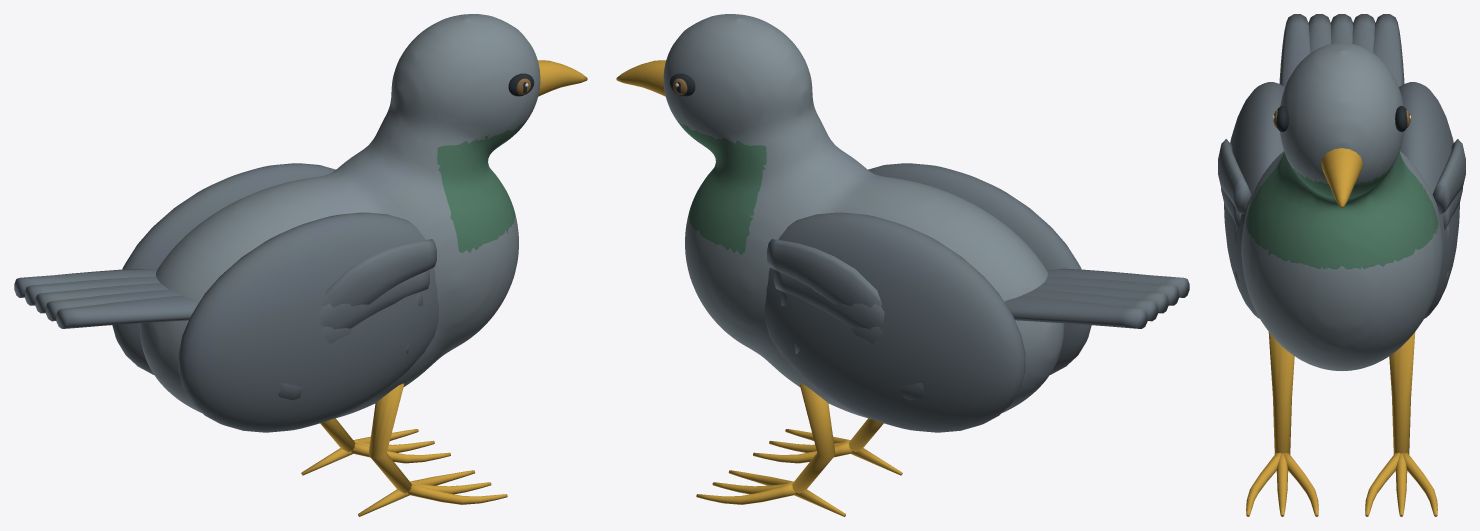
File: nature-pigeon.glb
The picture shows the model from 3 angles, left to right: view 1: azimuth 30°, elevation 25°; view 2: azimuth 150°, elevation 25°; view 3: azimuth 270°, elevation 25°; orthographic projection. The views are drawn at different scales.
Visible parts, largest first — view 1: Continuous anatomical skin, Convex folded wing wrapping flank, Convex folded wing wrapping flank.001, Curved overlapping primary feather, Rounded overlapping solid tail feather, Articulated bird leg, Curved overlapping primary feather.001, Rounded overlapping solid tail feather.004, Rounded overlapping solid tail feather.003, Rounded overlapping solid tail feather.001, Rounded overlapping solid tail feather.002, Tapered solid bird bill (+2 smaller); view 2: Continuous anatomical skin, Convex folded wing wrapping flank.001, Convex folded wing wrapping flank, Curved overlapping primary feather.005, Rounded overlapping solid tail feather.004, Articulated bird leg.001, Curved overlapping primary feather.006, Rounded overlapping solid tail feather, Rounded overlapping solid tail feather.003, Rounded overlapping solid tail feather.001, Rounded overlapping solid tail feather.002, Tapered solid bird bill (+2 smaller); view 3: Continuous anatomical skin, Convex folded wing wrapping flank, Convex folded wing wrapping flank.001, Articulated bird leg.001, Articulated bird leg, Tapered solid bird bill, Rounded overlapping solid tail feather.004, Rounded overlapping solid tail feather, Curved overlapping primary feather, Curved overlapping primary feather.005, Rounded overlapping solid tail feather.003, Rounded overlapping solid tail feather.001 (+7 smaller).
Part boxes in pixels (<box>): Continuous anatomical skin: <box>139,14,540,418</box>; Convex folded wing wrapping flank: <box>178,212,438,432</box>; Convex folded wing wrapping flank.001: <box>112,163,335,374</box>; Curved overlapping primary feather: <box>322,239,436,307</box>; Rounded overlapping solid tail feather: <box>56,295,199,328</box>; Articulated bird leg: <box>368,383,411,493</box>; Curved overlapping primary feather.001: <box>319,270,429,329</box>; Rounded overlapping solid tail feather.004: <box>14,268,156,297</box>; Rounded overlapping solid tail feather.003: <box>25,276,159,305</box>; Rounded overlapping solid tail feather.001: <box>45,289,181,321</box>; Rounded overlapping solid tail feather.002: <box>35,283,168,313</box>; Tapered solid bird bill: <box>537,60,587,96</box>; Continuous anatomical skin: <box>663,14,1064,418</box>; Convex folded wing wrapping flank.001: <box>765,212,1025,432</box>; Convex folded wing wrapping flank: <box>868,163,1091,374</box>; Curved overlapping primary feather.005: <box>767,239,881,307</box>; Rounded overlapping solid tail feather.004: <box>1004,295,1147,328</box>; Articulated bird leg.001: <box>792,383,835,493</box>; Curved overlapping primary feather.006: <box>774,270,884,329</box>; Rounded overlapping solid tail feather: <box>1047,268,1189,297</box>; Rounded overlapping solid tail feather.003: <box>1022,289,1158,321</box>; Rounded overlapping solid tail feather.001: <box>1044,276,1178,305</box>; Rounded overlapping solid tail feather.002: <box>1035,283,1168,313</box>; Tapered solid bird bill: <box>616,60,666,96</box>; Continuous anatomical skin: <box>1241,43,1442,370</box>; Convex folded wing wrapping flank: <box>1224,82,1284,318</box>; Convex folded wing wrapping flank.001: <box>1399,82,1459,318</box>; Articulated bird leg.001: <box>1389,332,1415,454</box>; Articulated bird leg: <box>1268,332,1294,454</box>; Tapered solid bird bill: <box>1321,148,1362,208</box>; Rounded overlapping solid tail feather.004: <box>1373,14,1404,86</box>; Rounded overlapping solid tail feather: <box>1279,14,1310,86</box>; Curved overlapping primary feather: <box>1218,139,1251,214</box>; Curved overlapping primary feather.005: <box>1432,139,1465,214</box>; Rounded overlapping solid tail feather.003: <box>1352,14,1375,52</box>; Rounded overlapping solid tail feather.001: <box>1308,14,1331,52</box>.
Bounding box in the file's own units: 0.399 × 0.31 × 0.1484.
7 materials, 7 textured.
